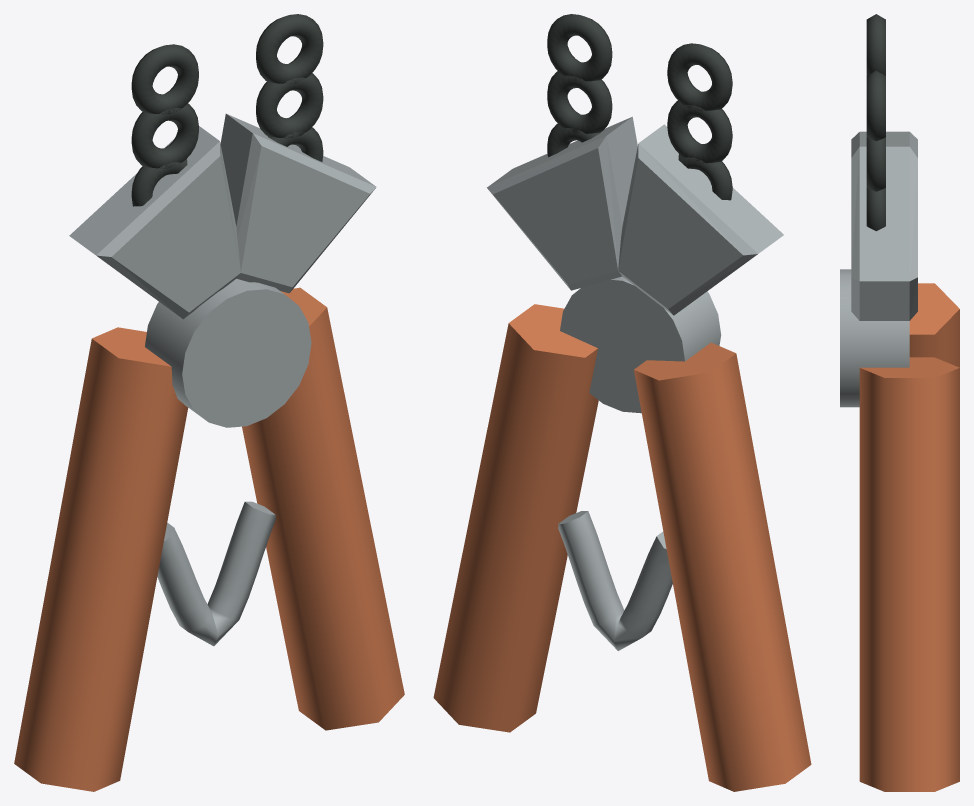
File: salvage-and-repair-workshop-wire-stripper-6d8a3045__25464.glb
3 renders of one model, left to right at view 1: azimuth 30°, elevation 25°; view 2: azimuth 150°, elevation 25°; view 3: azimuth 270°, elevation 25°, orthographic. The views are drawn at different scales.
Parts seen in each view (by area): view 1: wire-stripper; view 2: wire-stripper; view 3: wire-stripper.
Part boxes in pixels (x1,y1,x2,y2): wire-stripper: (14, 14, 404, 791); wire-stripper: (433, 14, 811, 791); wire-stripper: (840, 14, 959, 791).
Size of the model in its own units: 0.1406 by 0.2691 by 0.043.
